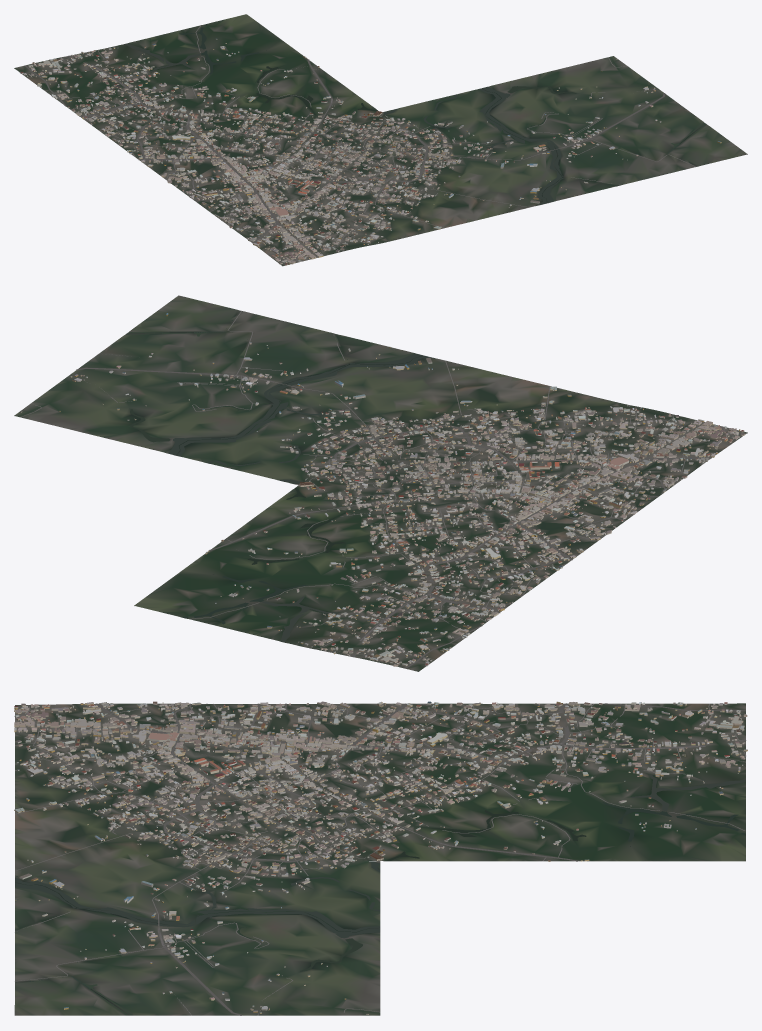
The picture shows the model from 3 angles, top to bottom: view 1: azimuth 30°, elevation 25°; view 2: azimuth 150°, elevation 25°; view 3: azimuth 270°, elevation 25°; orthographic projection. The views are drawn at different scales.
Visible parts, largest first — view 1: ground, buildings, roads, water; view 2: ground, buildings, roads, water; view 3: ground, buildings, roads, water.
Part boxes in pixels (x1=…): ground: x1=14, y1=14, x2=747, y2=266; buildings: x1=20, y1=38, x2=721, y2=265; roads: x1=24, y1=25, x2=696, y2=262; water: x1=124, y1=24, x2=706, y2=205; ground: x1=14, y1=295, x2=747, y2=671; buildings: x1=20, y1=313, x2=745, y2=666; roads: x1=20, y1=310, x2=741, y2=668; water: x1=126, y1=311, x2=435, y2=642; ground: x1=14, y1=703, x2=745, y2=1015; buildings: x1=14, y1=701, x2=747, y2=1014; roads: x1=15, y1=703, x2=746, y2=1015; water: x1=15, y1=774, x2=745, y2=1015.
Bounding box in the file's own units: 2813 × 32.11 × 2813.
